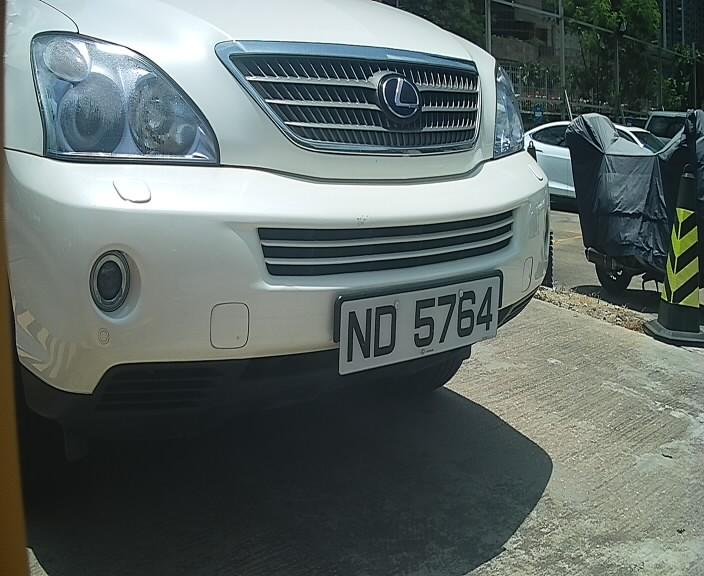Car: (1, 8, 588, 502)
License Plate: (315, 258, 527, 386)
